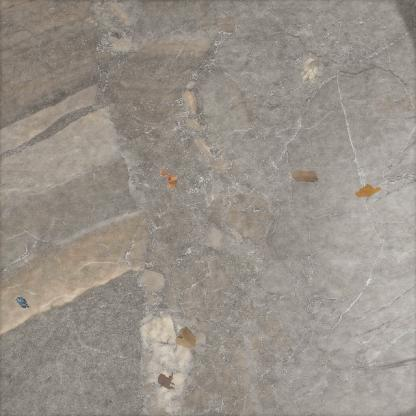dirty: (173, 324, 199, 350), (300, 58, 319, 86), (158, 167, 180, 191), (289, 169, 320, 185), (14, 295, 35, 310)
liquid: (354, 183, 381, 199), (157, 371, 176, 391)
